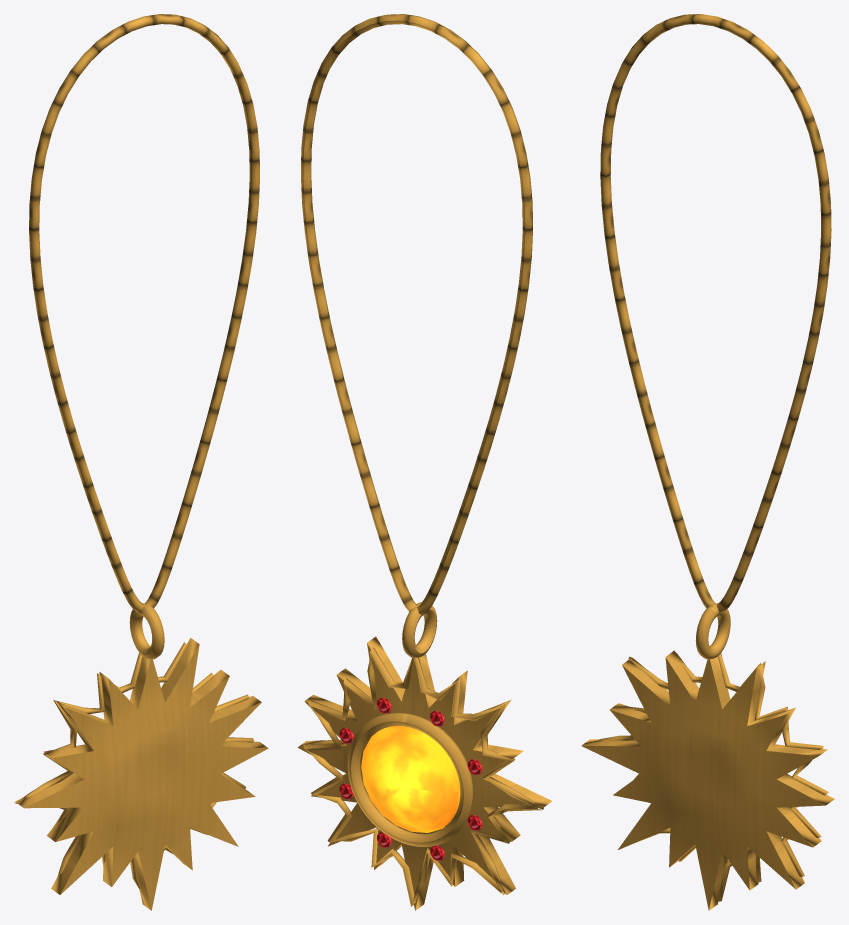
Rendered from HeartOfTheSun.glb.
The picture shows the model from 3 angles, left to right: view 1: azimuth 30°, elevation 25°; view 2: azimuth 150°, elevation 25°; view 3: azimuth 330°, elevation 25°; orthographic projection.
Visible parts, largest first — view 1: HeartOfTheSun; view 2: HeartOfTheSun; view 3: HeartOfTheSun.
Boxes of the visible parts, x1=… form: HeartOfTheSun: x1=14, y1=14, x2=268, y2=910; HeartOfTheSun: x1=297, y1=14, x2=551, y2=910; HeartOfTheSun: x1=581, y1=14, x2=834, y2=910.
Size of the model in its own units: 0.5675 by 1.97 by 0.128.
Materials: 1 (1 with a texture image).
